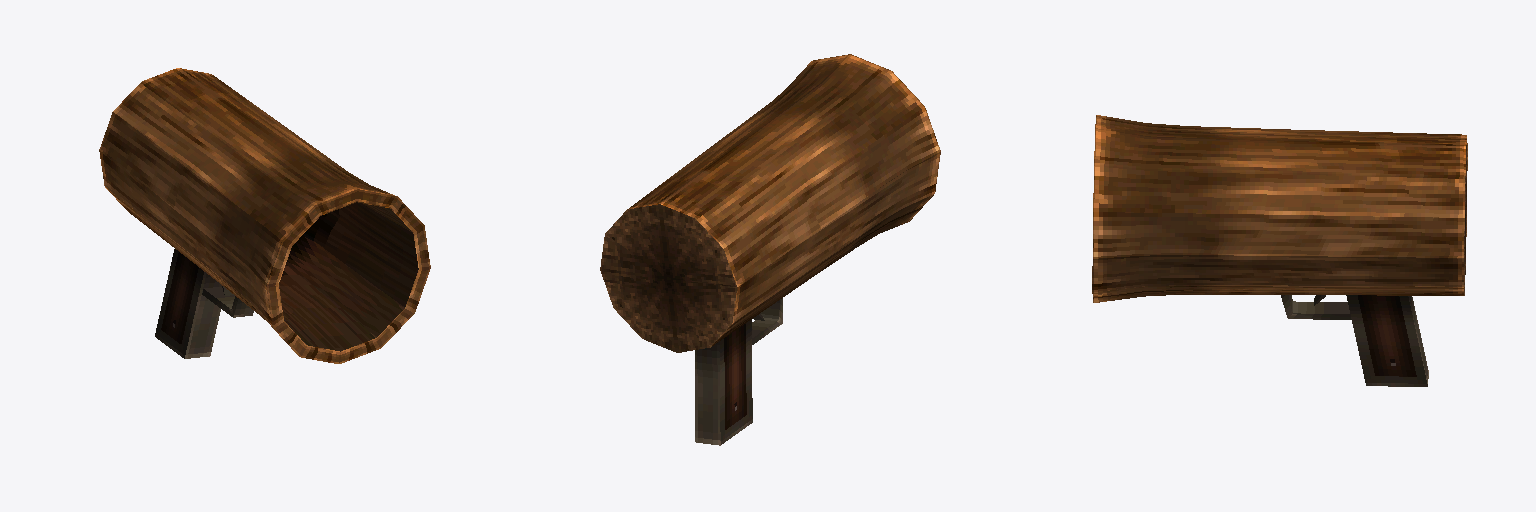
3 renders of one model, left to right at view 1: azimuth 30°, elevation 25°; view 2: azimuth 150°, elevation 25°; view 3: azimuth 270°, elevation 25°, orthographic.
Visible parts, largest first — view 1: polygon2; view 2: polygon2; view 3: polygon2.
Part boxes in pixels (x1,y1,x2,y2): polygon2: (99,68,430,363); polygon2: (600,54,940,445); polygon2: (1092,115,1467,386).
Size of the model in its own units: 5.25 by 8.15 by 10.51.
Materials: 1 (1 with a texture image).